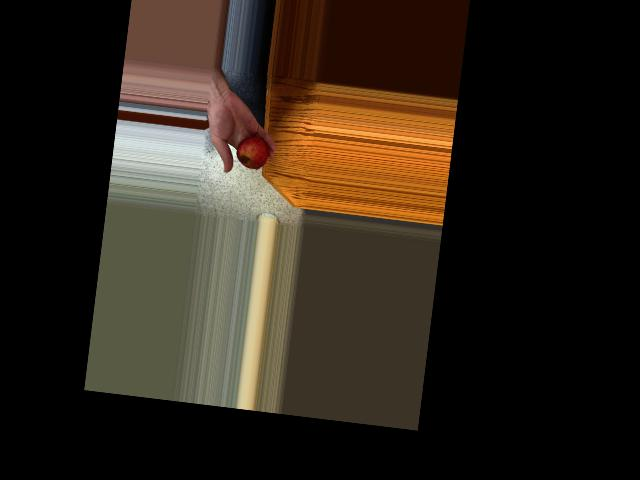apple: (232, 135, 271, 171)
